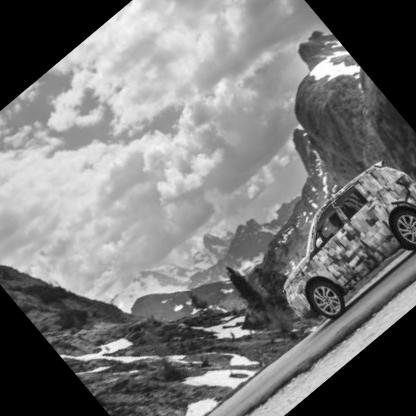car: (240, 133, 416, 353)
